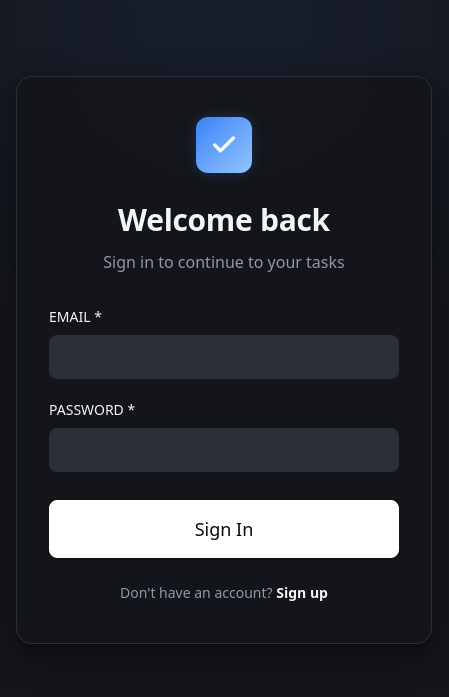
Test: AuthContainer › shows Supabase authentication errors
The image size is (449, 697).
Type "person@example.com" into the field labelled "EMAIL *". click: (224, 357)
box: [49,335,399,379]
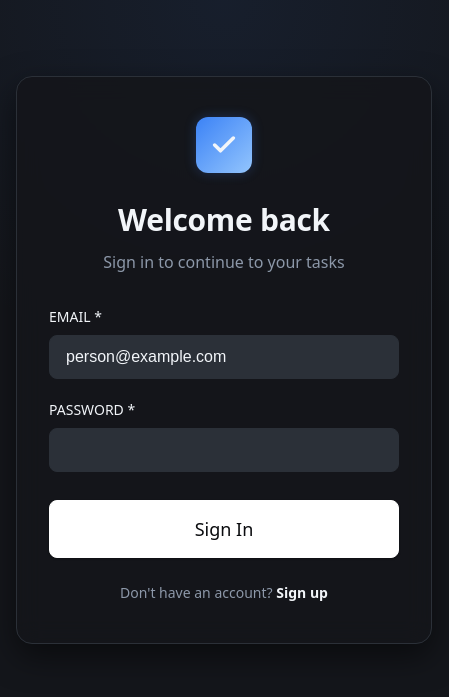
Type "secret123" into the password field labelled "PASSWORD *". click: (224, 450)
box: [49,428,399,472]
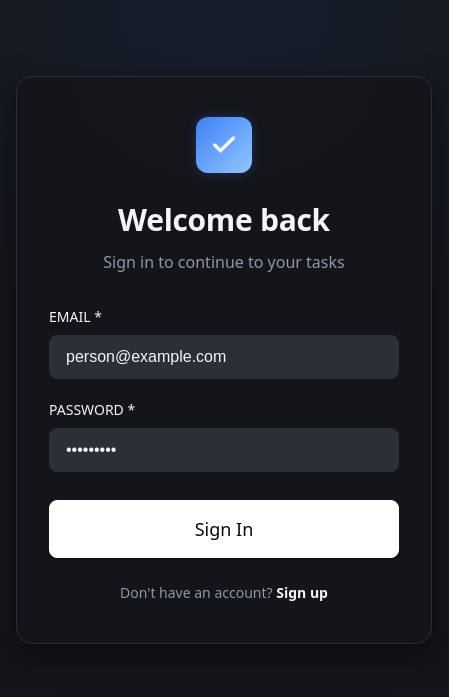
Click the button "Sign In". click: (224, 529)
box: [49,500,399,558]
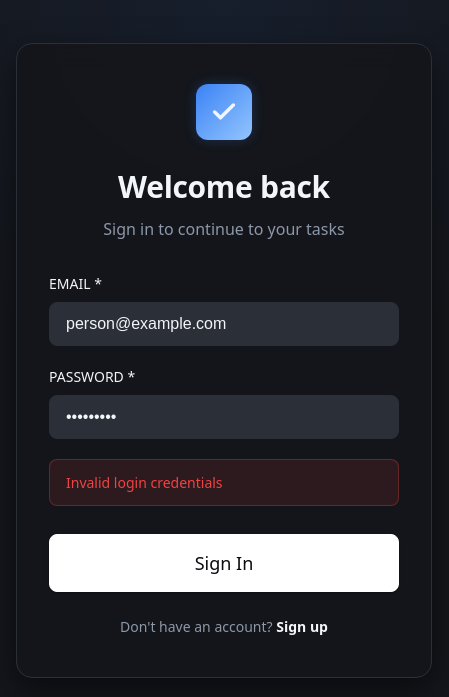
Check: the message reads "Invalid login credentials", box [66,472,223,492]
